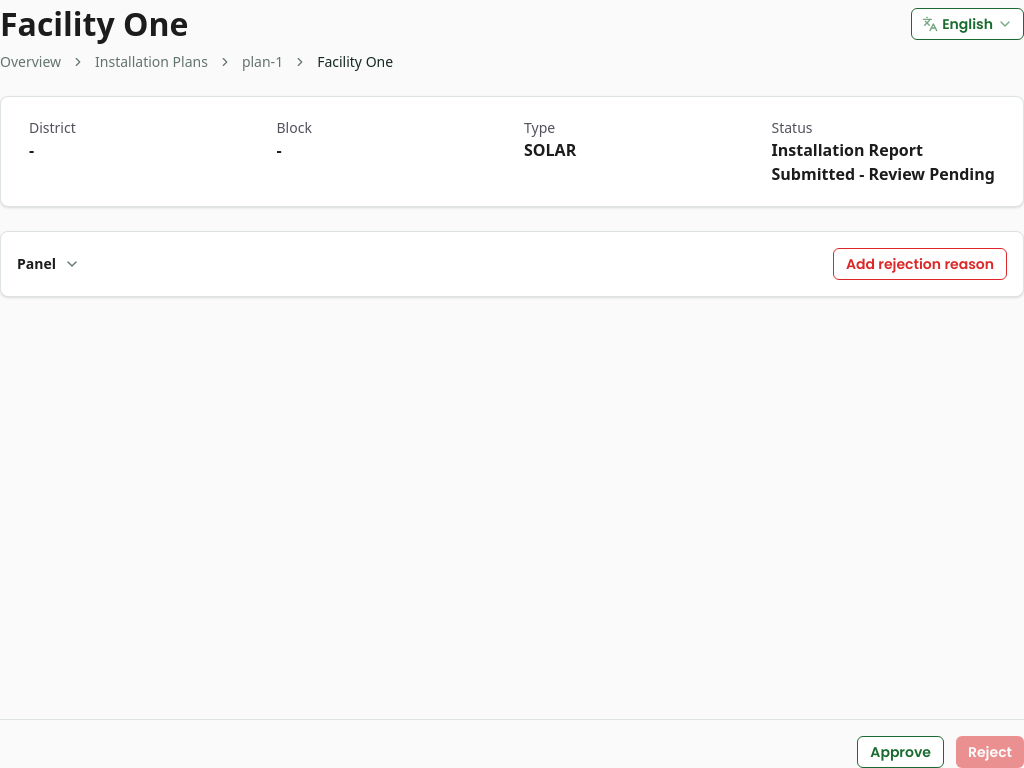
Test: ActivityReview › gates approve submission behind the confirm dialog
This screenshot has width=1024, height=768.
What coordinates should you click on to do the following:
click the button "Approve"
I would click on:
 (901, 752)
Its box is [857,736,944,767].
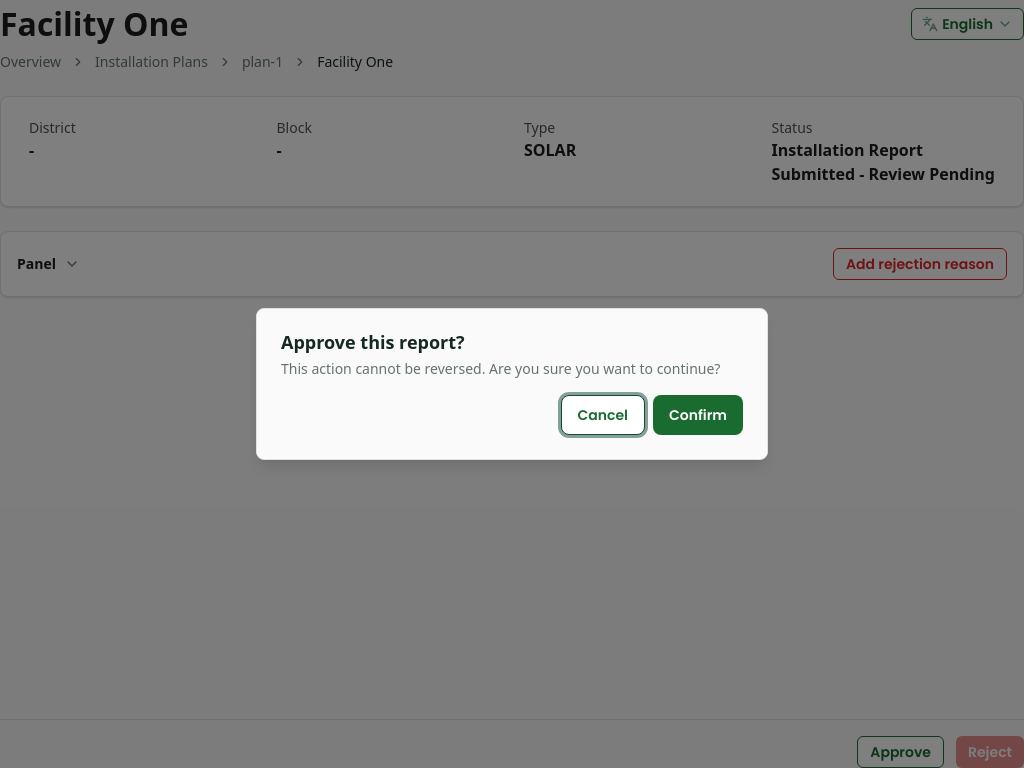
Expected: the heading "Approve this report?" is shown, [281,330,465,354]
What coordinates should you click on to do the following:
click the button "Cancel"
I would click on:
 (603, 415)
Its box is [560,395,645,435].
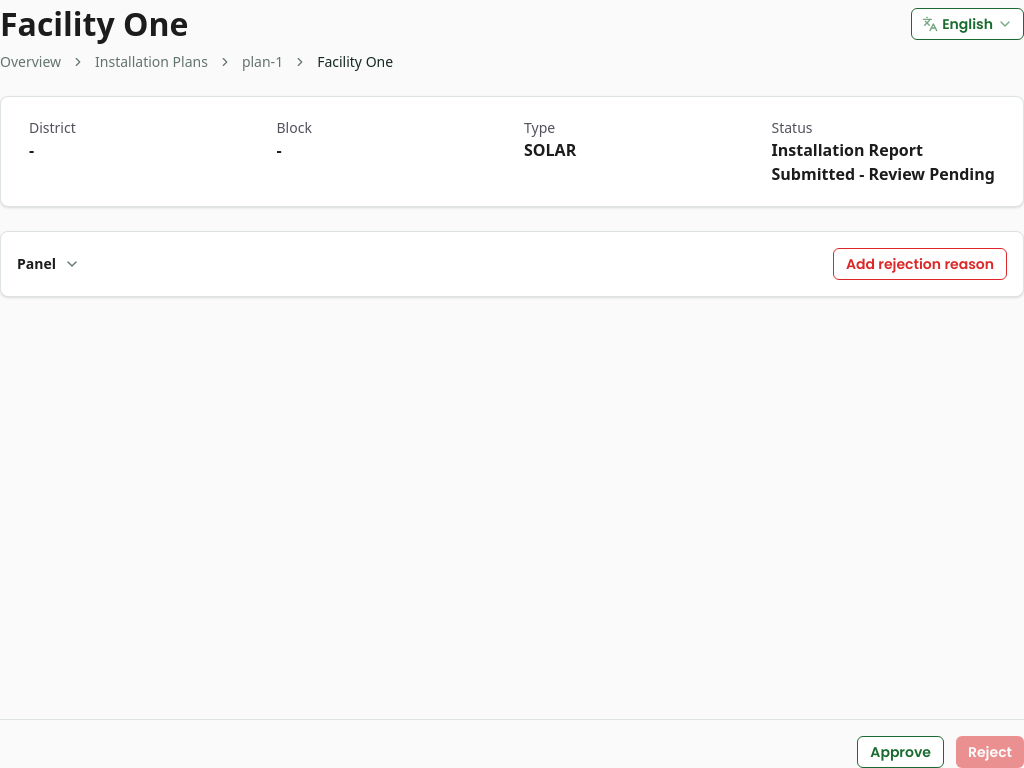
Expected: the heading "Approve this report?" is gone
